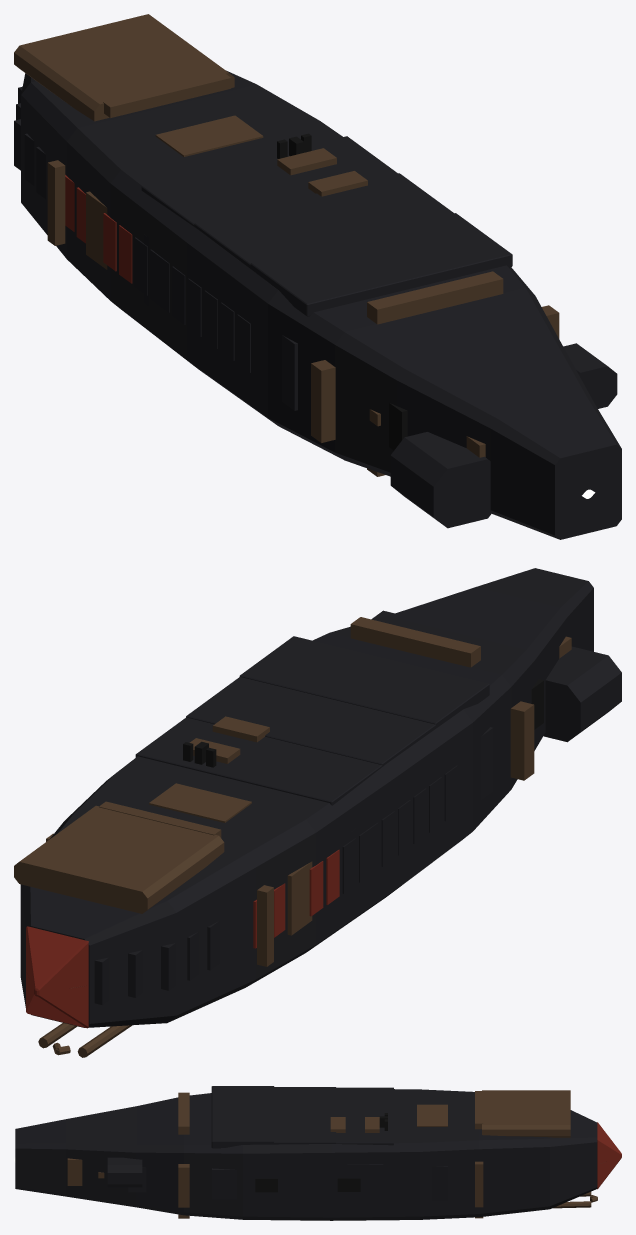
3 renders of one model, top to bottom at view 1: azimuth 30°, elevation 25°; view 2: azimuth 150°, elevation 25°; view 3: azimuth 270°, elevation 25°, orthographic. The views are drawn at different scales.
Parts seen in each view (by area): view 1: RIMWARD_HULL; view 2: RIMWARD_HULL; view 3: RIMWARD_HULL.
Boxes of the visible parts, bbox=[...] form: RIMWARD_HULL: bbox=[14, 14, 621, 539]; RIMWARD_HULL: bbox=[14, 568, 621, 1057]; RIMWARD_HULL: bbox=[15, 1086, 621, 1220].
Size of the model in its own units: 1.85 by 1.34 by 7.42.
